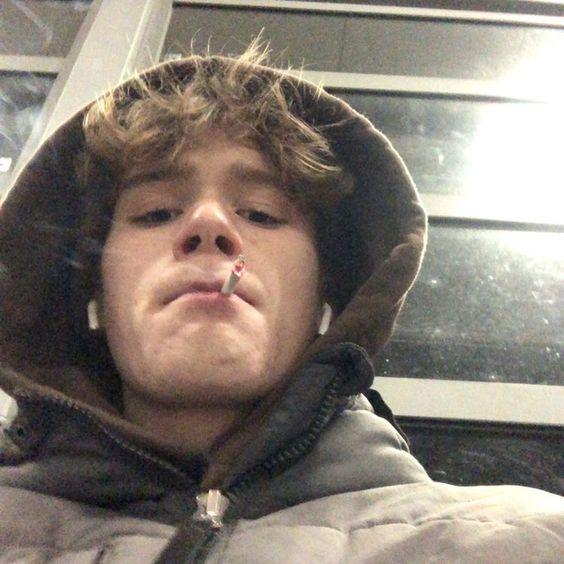cigarette: (220, 254, 248, 298)
